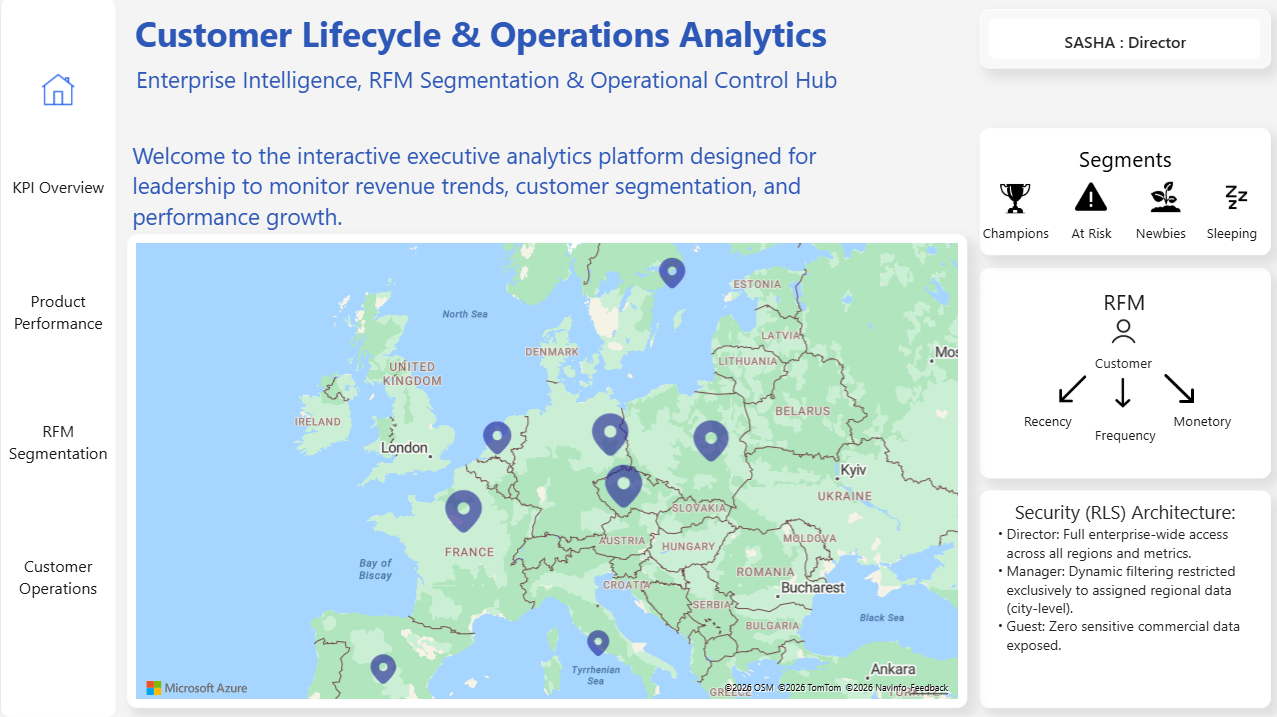

The page's visual inventory and layout, read from the dashboard file:
{"tool":"powerbi","page":{"name":"Greeting","canvas":[1280,720],"ordinal":0},"visuals":[{"type":"textbox","title":"Customer Lifecycle & Operations Analytics","box":[126.4,11.8,707.3,75.5],"z":0},{"type":"textbox","title":"Enterprise Intelligence, RFM Segmentation & Operational Control Hub","box":[127,65.5,716.4,64.5],"z":1000},{"type":"textbox","box":[0,0,114,720],"z":2000},{"type":"actionButton","box":[0,161.4,114.3,54.3],"z":4000},{"type":"actionButton","box":[0,285.7,114.3,54.3],"z":5000},{"type":"actionButton","box":[0,415.7,114.3,54.3],"z":6000},{"type":"actionButton","box":[0,551.4,114.3,54.3],"z":7000},{"type":"actionButton","box":[36,71,48,42],"z":12000},{"type":"textbox","box":[978.2,270,290.9,210],"z":13000},{"type":"image","box":[1103.8,312.5,37.5,38.8],"z":14000},{"type":"textbox","box":[1085,351.2,75,27.5],"z":15000},{"type":"actionButton","box":[1008.8,401.2,76.2,41.2],"z":16000},{"type":"actionButton","box":[1085,416.2,78.8,40],"z":17000},{"type":"actionButton","box":[1163.8,401.2,75,41.2],"z":18000},{"type":"image","box":[1106.2,360,31.2,70],"z":19000},{"type":"image","box":[1055,352.5,33.8,76.2],"z":20000},{"type":"image","box":[1143.8,372.5,68.8,36.2],"z":21000},{"type":"textbox","box":[978.2,130,290.9,127.3],"z":22000},{"type":"textbox","title":"Segments","box":[1070,146.2,108.8,31.2],"z":23000},{"type":"image","box":[1217.1,184,35.7,31.4],"z":24000},{"type":"image","box":[1147.1,184.3,34.3,30],"z":25000},{"type":"image","box":[1070,182.9,40,32.9],"z":26000},{"type":"image","box":[995.7,182.9,35.7,32.9],"z":27000},{"type":"textbox","box":[978.2,492.7,290.9,217.3],"z":28000},{"type":"textbox","title":"Welcome to the interactive executive analytics platform designed for leadership to monitor revenue trends, customer segmentation, and performance growth.","box":[126.4,140.9,789.1,95.5],"z":29000},{"type":"azureMap","fields":{"Size":["_measures.Total Revenue"],"Category":["mart fact_sales.city"]},"box":[126.4,236.4,840,473.6],"z":30000},{"type":"cardVisual","fields":{"Data":["_measures.User_Active_Role_Card"]},"box":[978.2,11.8,290.9,59.1],"z":31000},{"type":"actionButton","box":[1085.7,283,74.3,41.4],"z":32000},{"type":"actionButton","box":[975.7,214.3,77.1,41.4],"z":33000},{"type":"actionButton","box":[1061.4,214.3,58.6,41.4],"z":34000},{"type":"actionButton","box":[1121.4,214.3,77.1,41.4],"z":35000},{"type":"actionButton","box":[1192.9,214.3,77.1,41.4],"z":36000}]}

Visuals, with their boxes in screenshot pixels (x1, y1, x2, y2), scaled from the page's 1280x720 canvas onto the 1277x717 screenshot:
"Customer Lifecycle & Operations Analytics" textbox: box(126, 12, 832, 87)
"Enterprise Intelligence, RFM Segmentation & Operational Control Hub" textbox: box(127, 65, 841, 129)
textbox: box(0, 0, 114, 716)
actionButton: box(0, 161, 114, 215)
actionButton: box(0, 285, 114, 339)
actionButton: box(0, 414, 114, 468)
actionButton: box(0, 549, 114, 603)
actionButton: box(36, 71, 84, 113)
textbox: box(976, 269, 1266, 478)
image: box(1101, 311, 1139, 350)
textbox: box(1082, 350, 1157, 377)
actionButton: box(1006, 400, 1082, 441)
actionButton: box(1082, 414, 1161, 454)
actionButton: box(1161, 400, 1236, 441)
image: box(1104, 358, 1135, 428)
image: box(1053, 351, 1086, 427)
image: box(1141, 371, 1210, 407)
textbox: box(976, 129, 1266, 256)
"Segments" textbox: box(1067, 146, 1176, 177)
image: box(1214, 183, 1250, 215)
image: box(1144, 184, 1179, 213)
image: box(1067, 182, 1107, 215)
image: box(993, 182, 1029, 215)
textbox: box(976, 491, 1266, 707)
"Welcome to the interactive executive analytics platform designed for leadership to monitor revenue trends, customer segmentation, and performance growth." textbox: box(126, 140, 913, 235)
azureMap - _measures.Total Revenue x mart fact_sales.city: box(126, 235, 964, 707)
cardVisual - _measures.User_Active_Role_Card: box(976, 12, 1266, 71)
actionButton: box(1083, 282, 1157, 323)
actionButton: box(973, 213, 1050, 255)
actionButton: box(1059, 213, 1117, 255)
actionButton: box(1119, 213, 1196, 255)
actionButton: box(1190, 213, 1267, 255)
